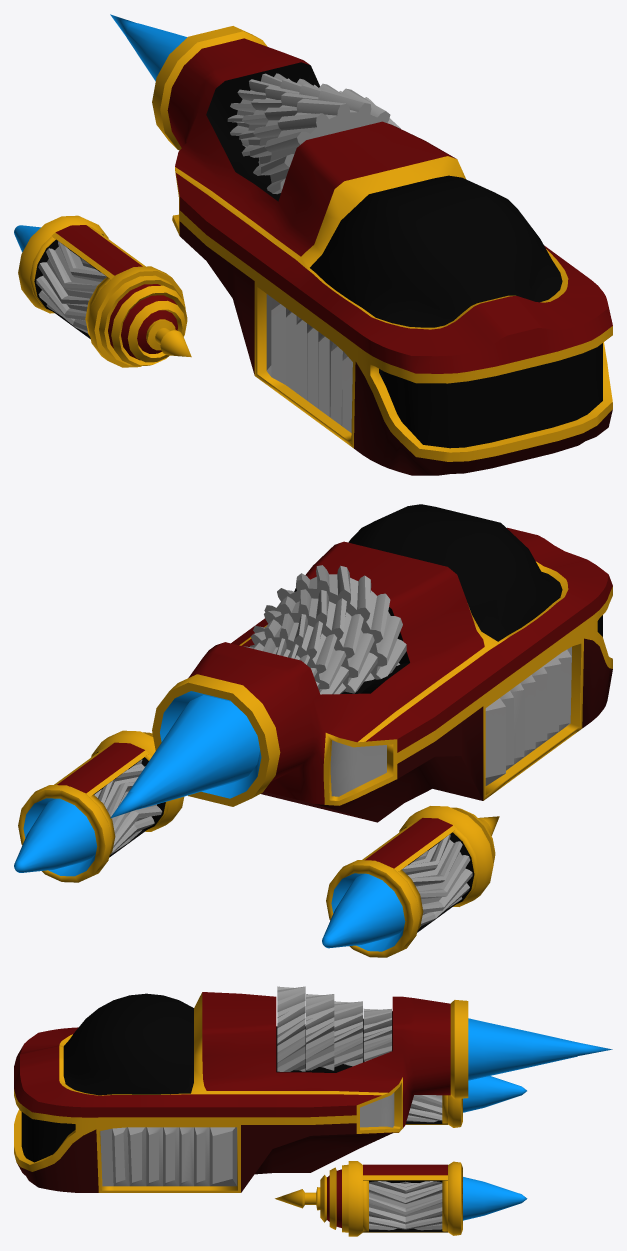
File: ReflectorShip.fbx
3 renders of one model, top to bottom at view 1: azimuth 30°, elevation 25°; view 2: azimuth 150°, elevation 25°; view 3: azimuth 270°, elevation 25°, orthographic. The views are drawn at different scales.
Parts seen in each view (by area): view 1: Cabin, EngineBody, GearSet1, EngineGear, GearSet2, EngineConnection; view 2: Cabin, EngineBody (×2), GearSet1, EngineGear (×2), EngineConnection (×2), GearSet2; view 3: Cabin, EngineBody (×2), EngineGear (×2), GearSet1, GearSet2, EngineConnection.
Boxes of the visible parts, box(x1,y1,x2,y2) form: Cabin: box(110, 14, 612, 475); EngineBody: box(14, 215, 191, 367); GearSet1: box(239, 78, 400, 194); EngineGear: box(36, 241, 106, 333); GearSet2: box(227, 73, 341, 175); EngineConnection: box(52, 225, 145, 338); Cabin: box(110, 504, 612, 822); EngineBody (×2): box(14, 730, 499, 957); GearSet1: box(243, 565, 406, 694); EngineGear (×2): box(94, 759, 472, 926); EngineConnection (×2): box(54, 742, 456, 932); GearSet2: box(250, 589, 377, 693); Cabin: box(14, 992, 612, 1192); EngineBody (×2): box(275, 1076, 527, 1236); EngineGear (×2): box(369, 1095, 442, 1230); GearSet1: box(277, 986, 362, 1071); GearSet2: box(306, 994, 391, 1070); EngineConnection: box(363, 1164, 447, 1232).
Bounding box in the file's own units: 1.3 × 0.8114 × 2.35.
